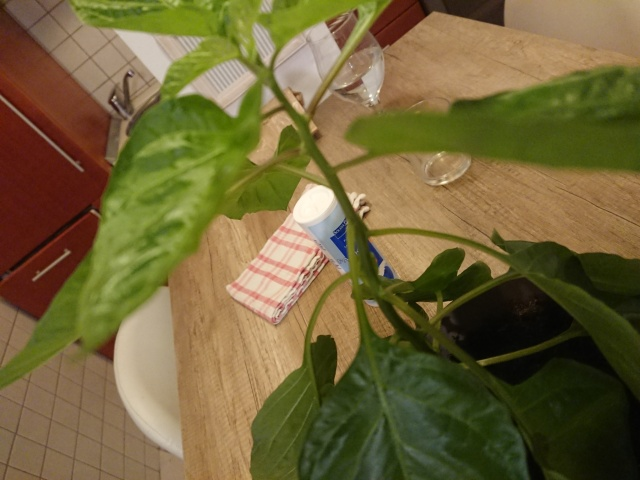Solana Pag Fine Sea Salt 250g: (290, 183, 405, 310)
